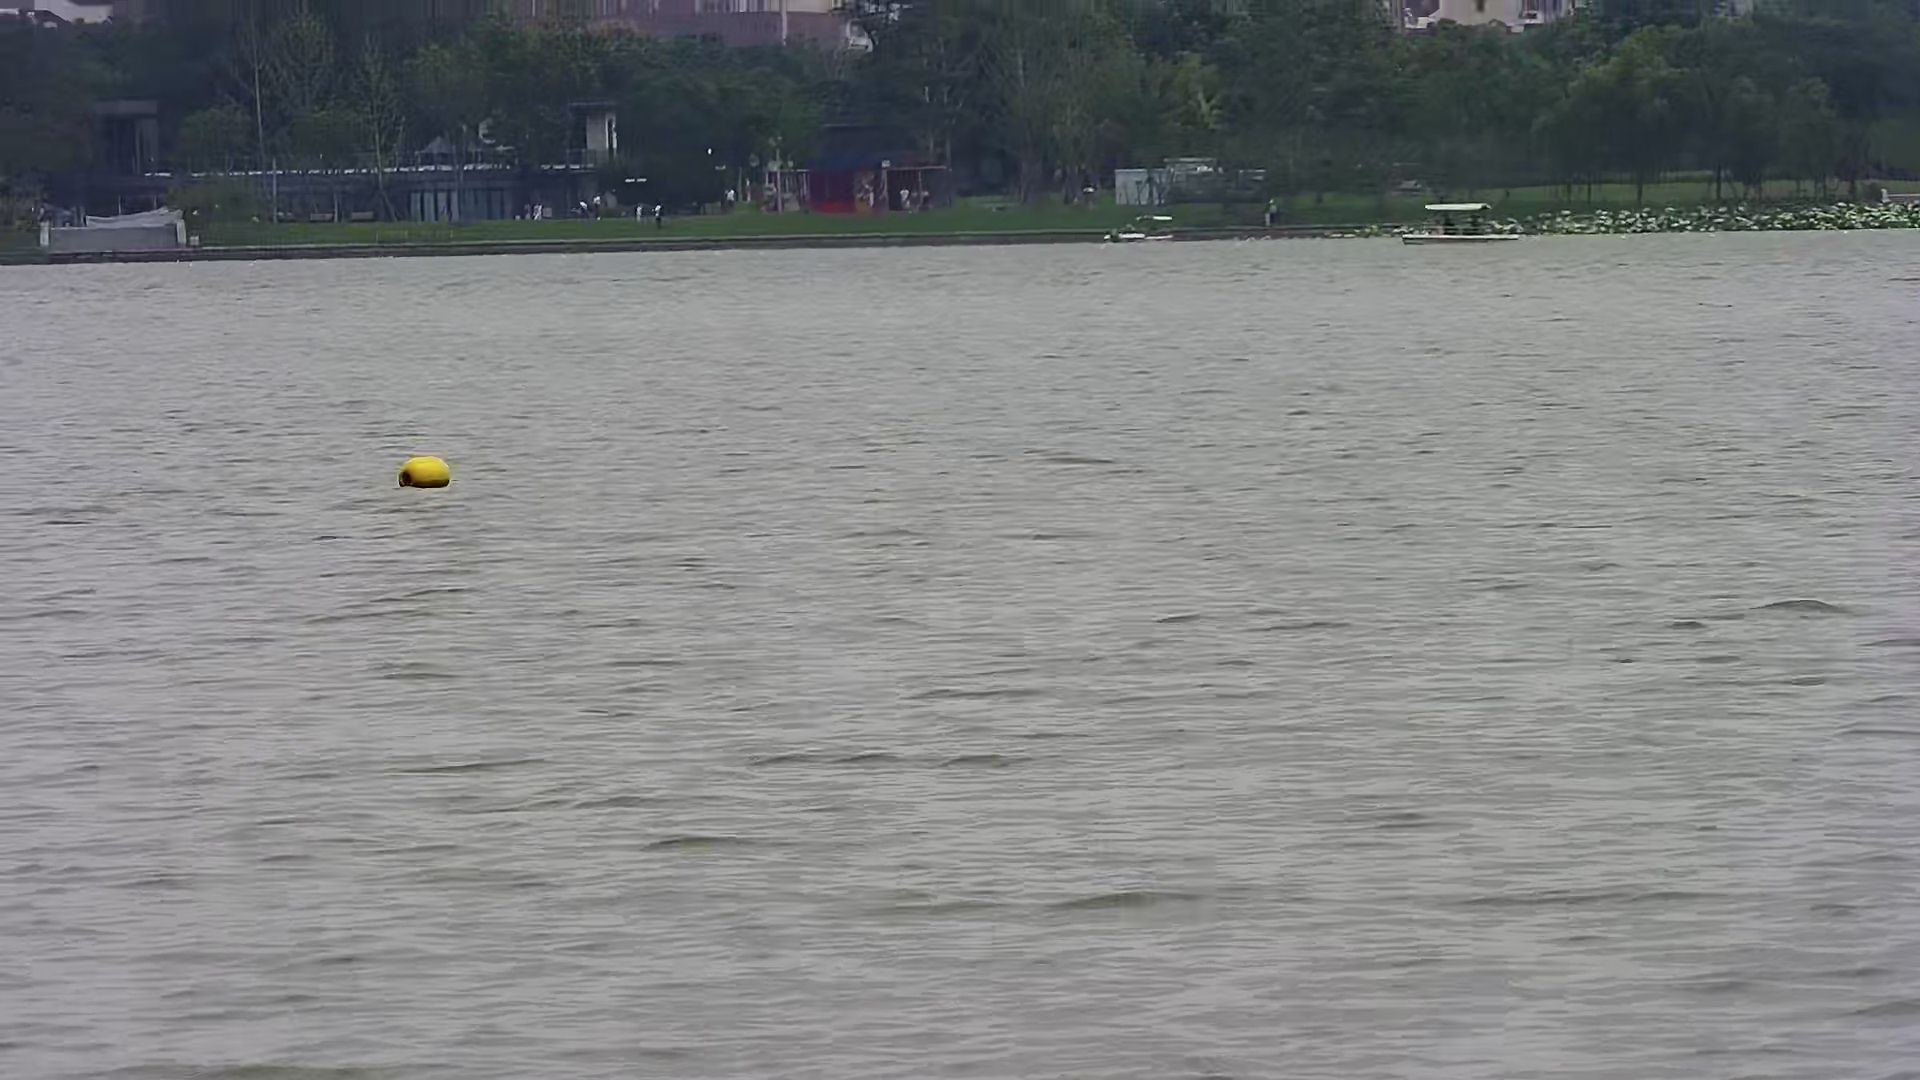boat: (1394, 194, 1522, 248)
rubbish: (396, 448, 452, 495)
